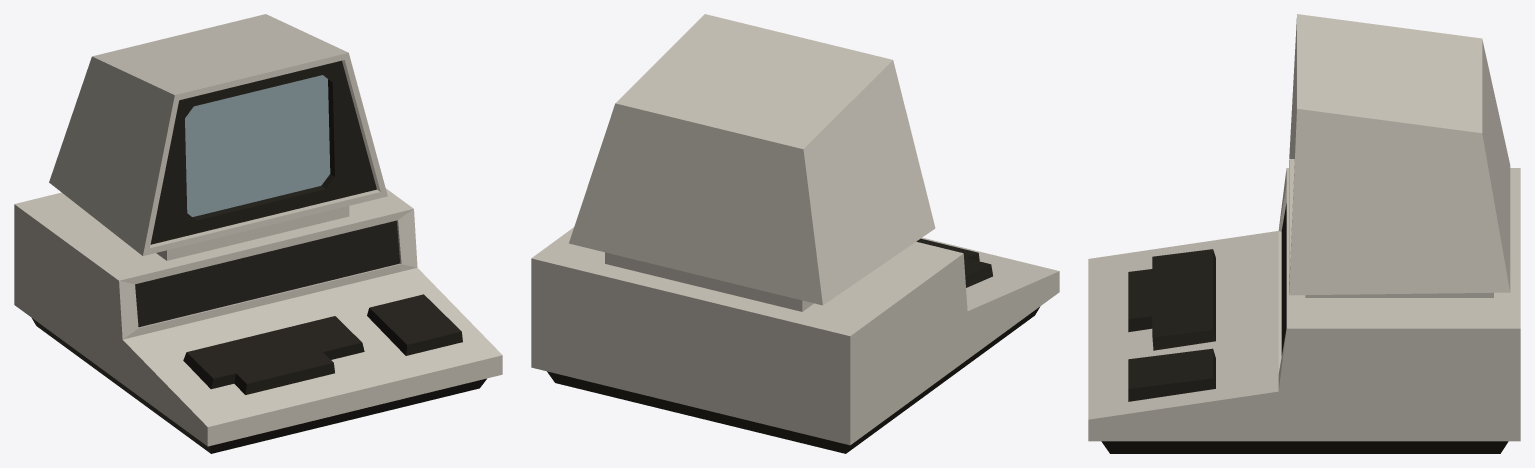
The model's file is comm.glb.
3 renders of one model, left to right at view 1: azimuth 30°, elevation 25°; view 2: azimuth 150°, elevation 25°; view 3: azimuth 270°, elevation 25°, orthographic. The views are drawn at different scales.
Parts seen in each view (by area): view 1: Cube; view 2: Cube; view 3: Cube.
Part boxes in pixels (left/top/right/bottom): Cube: left=14, top=14, right=502, bottom=453; Cube: left=531, top=14, right=1059, bottom=453; Cube: left=1088, top=14, right=1520, bottom=453.
Size of the model in its own units: 4.95 by 4.59 by 5.63.
Materials: 1 (1 with a texture image).
